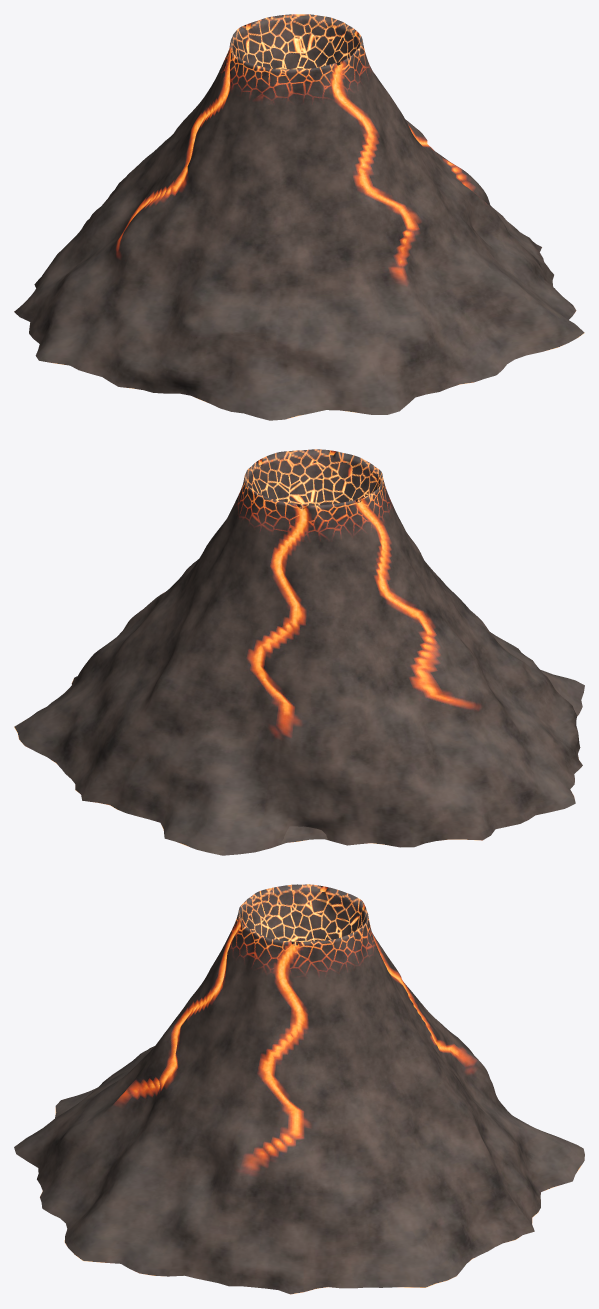
File: volcanoes.glb
3 views of the same model, one above another, from view 1: azimuth 30°, elevation 25°; view 2: azimuth 150°, elevation 25°; view 3: azimuth 270°, elevation 25° (orthographic). The views are drawn at different scales.
Visible parts, largest first — view 1: V1; view 2: V1, V2; view 3: V1.
Boxes of the visible parts, x1,y1,x2,y2 form: V1: (14,14,584,420); V1: (14,449,584,855); V2: (281,826,327,843); V1: (14,884,584,1294).
Bounding box in the file's own units: 9.27 × 4.66 × 9.11.
Materials: 3 (3 with a texture image).
